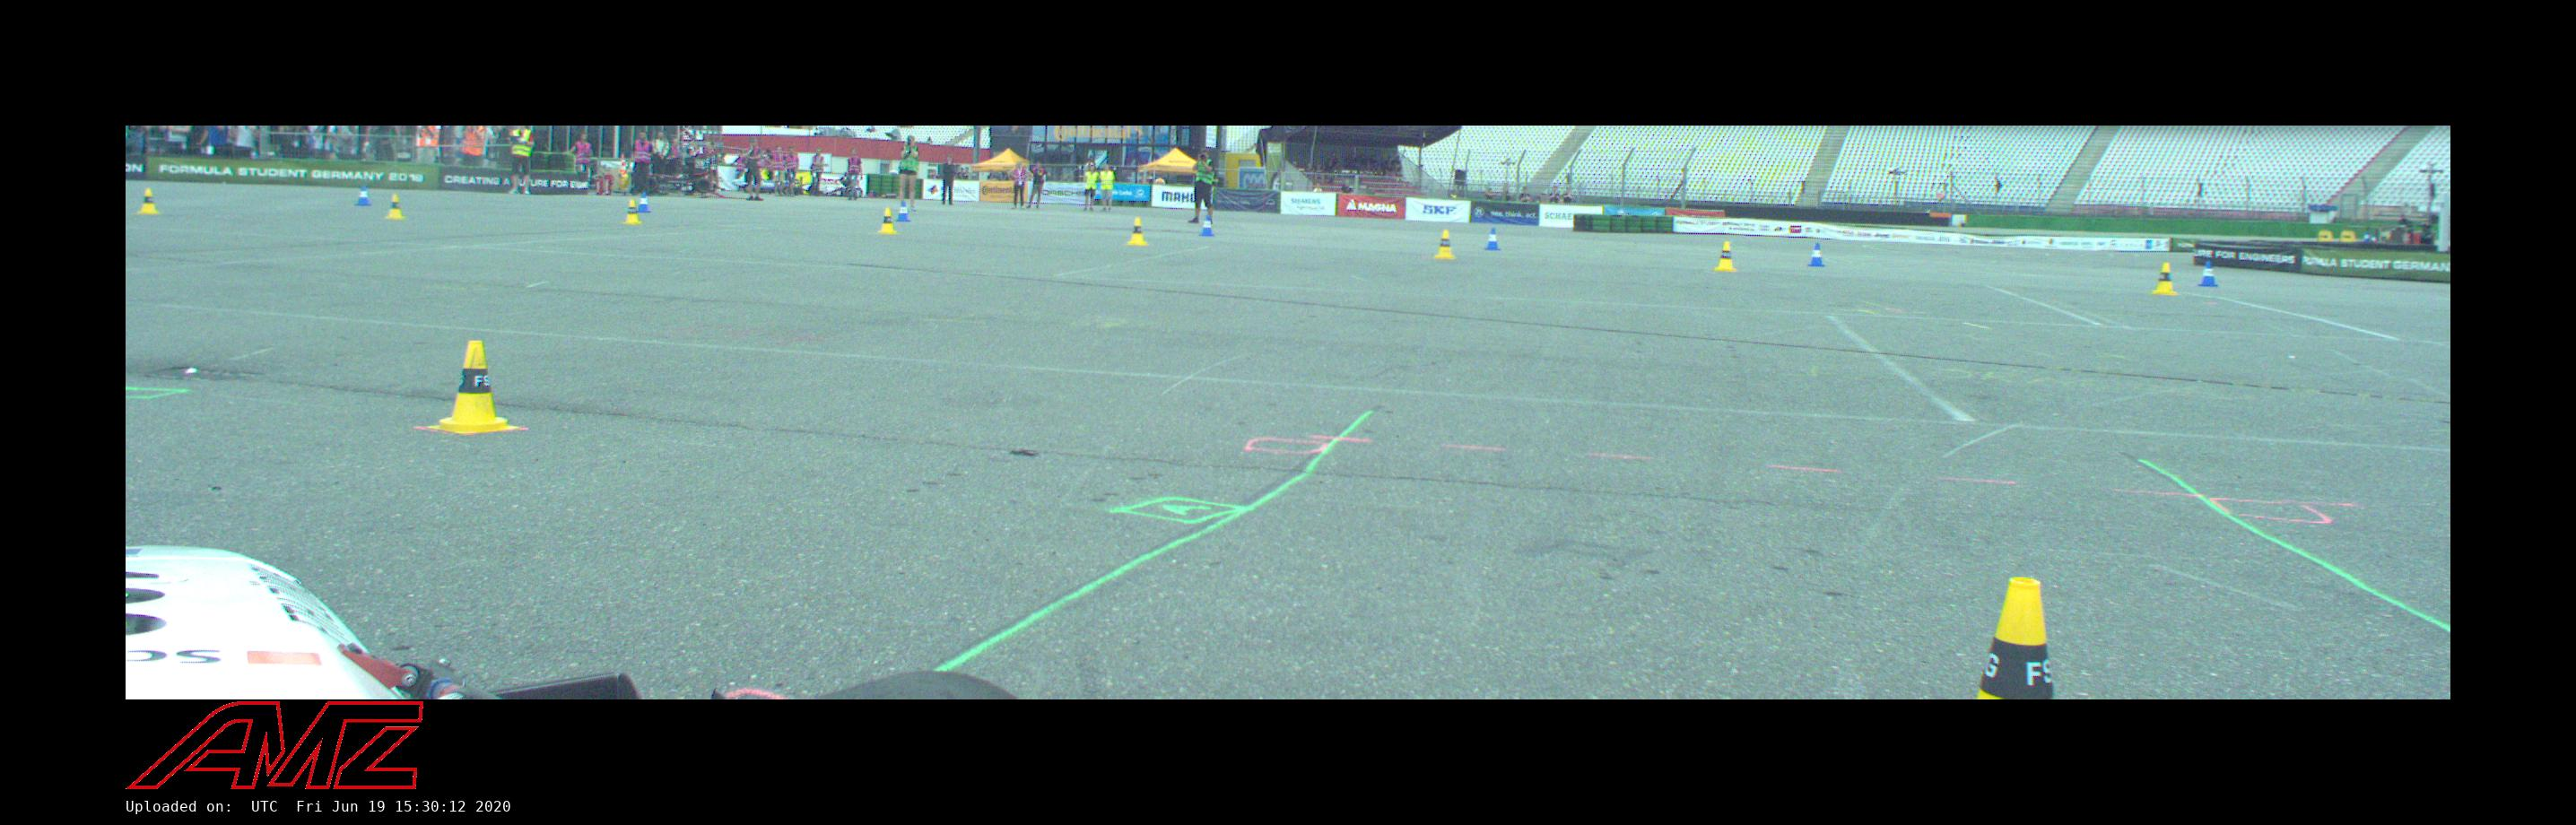blue_cone: (2196, 260, 2218, 286), (1809, 242, 1825, 266), (355, 184, 373, 205), (895, 202, 912, 222), (1199, 217, 1216, 237), (1485, 228, 1500, 250), (639, 192, 652, 212)
yellow_cone: (1976, 577, 2055, 700), (429, 340, 519, 434), (2151, 261, 2180, 296), (1714, 242, 1738, 271), (136, 187, 161, 215), (1433, 230, 1457, 258), (1127, 217, 1150, 247), (621, 200, 646, 224), (877, 209, 899, 233), (384, 194, 406, 219)
